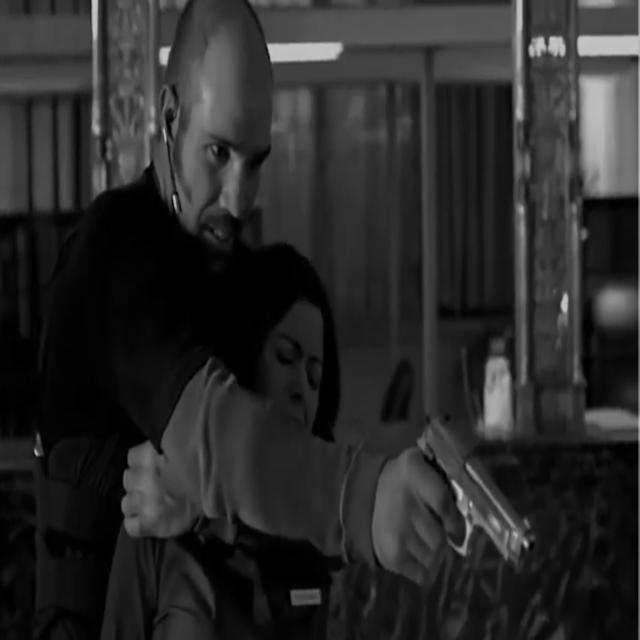gun: (416, 414, 535, 570)
